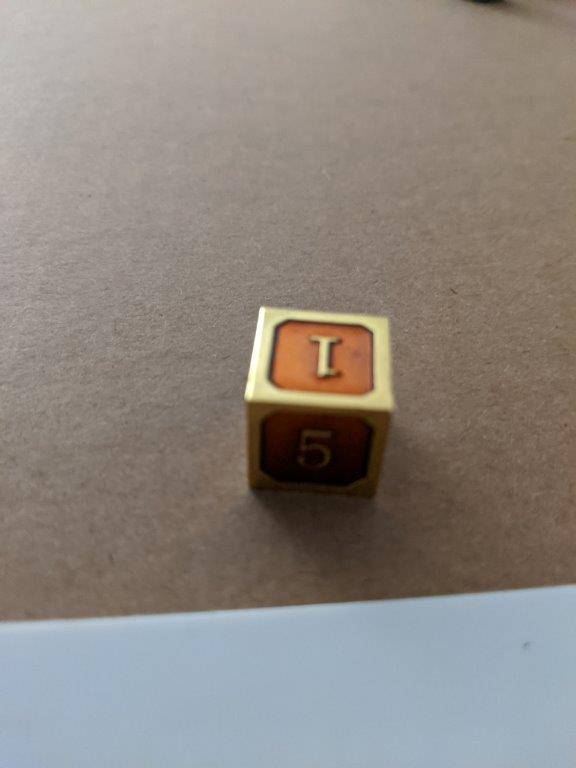d6-1: (242, 305, 397, 505)
